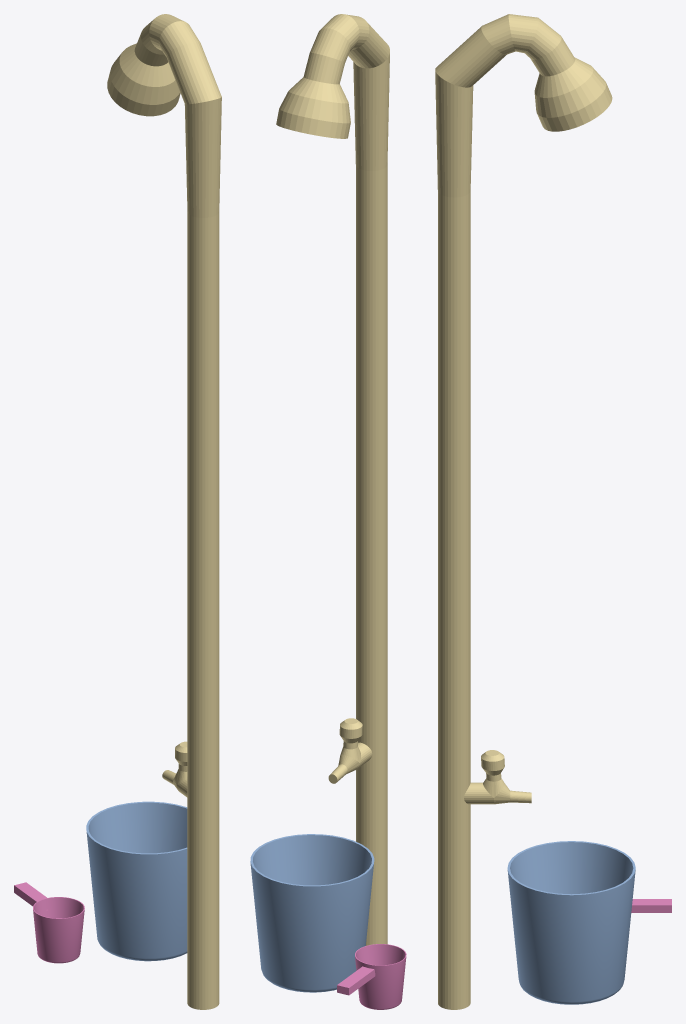
The model's file is shower room.fbx.
3 views of the same model, side by side, from view 1: azimuth 30°, elevation 25°; view 2: azimuth 150°, elevation 25°; view 3: azimuth 270°, elevation 25° (orthographic). The views are drawn at different scales.
Visible parts, largest first — view 1: shower, tub, cup; view 2: shower, tub, cup; view 3: shower, tub, cup.
Part boxes in pixels (x1,y1,x2,y2): shower: [107, 14, 221, 1009]; tub: [86, 801, 187, 961]; cup: [14, 882, 84, 963]; shower: [276, 14, 389, 945]; tub: [250, 834, 374, 992]; cup: [337, 944, 406, 1009]; shower: [435, 14, 612, 1009]; tub: [507, 841, 635, 1004]; cup: [631, 899, 671, 912].
Size of what is drawn, in the model's own units: 50.83 by 300 by 65.1.
